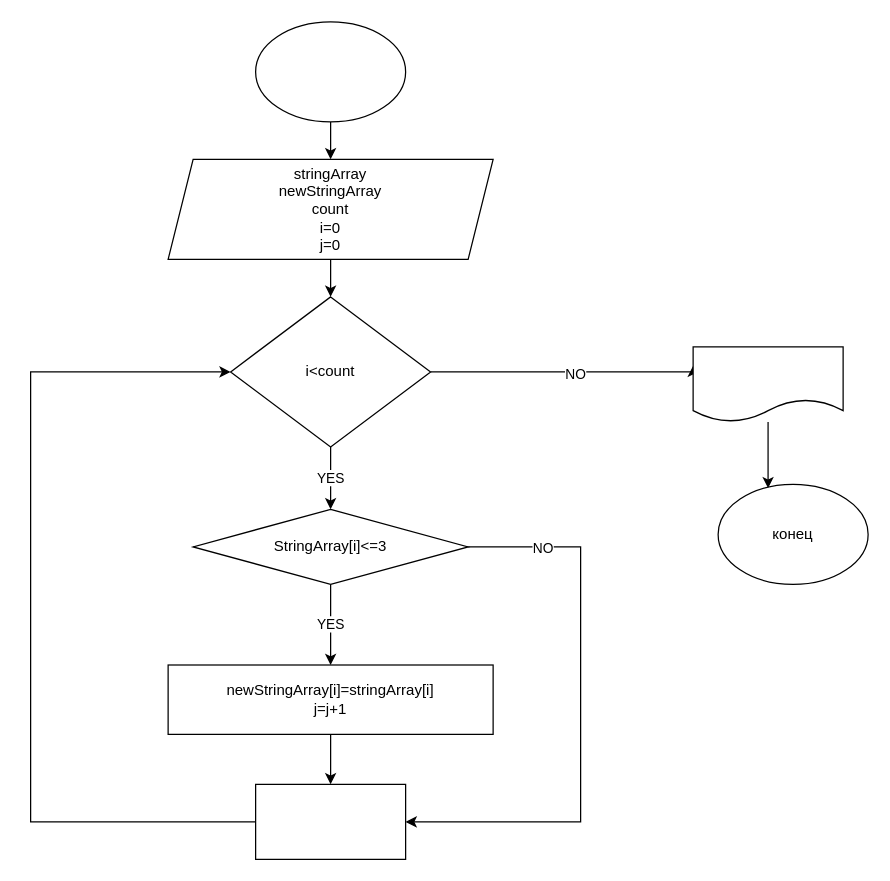
The diagram is 890 pixels wide and 881 high, and some of its shapes have lost their labels. The shapes that lost their labels are listed below. From the top down, each one's centre as x and y in pixels, then its label:
At point 330,71: "Начало".
At point 767,384: "outputArray".
At point 330,821: "i=i+1".
